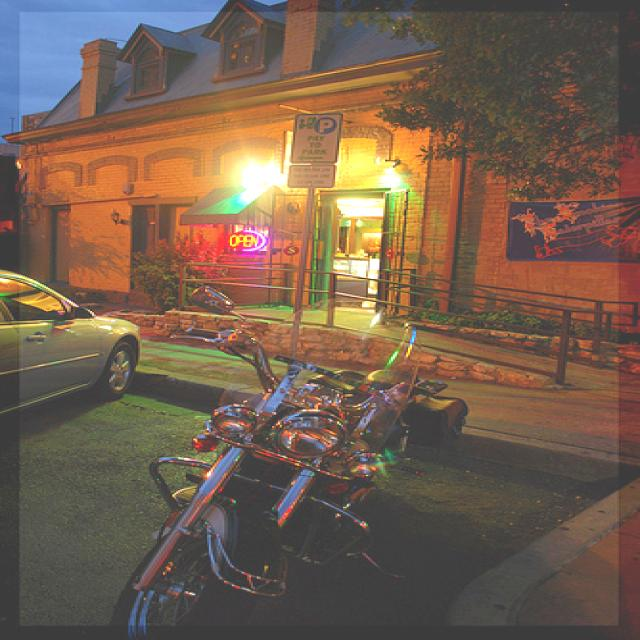Motorbike: (128, 284, 469, 640)
